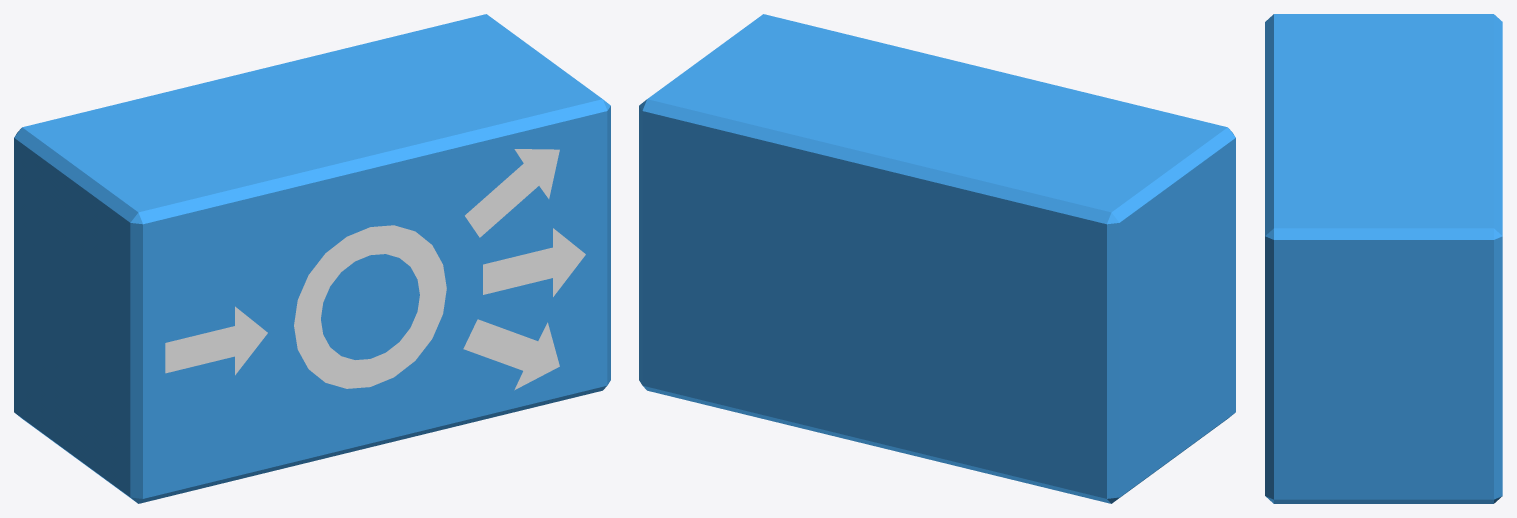
The model's file is Loadbalance.obj.
3 views of the same model, side by side, from view 1: azimuth 30°, elevation 25°; view 2: azimuth 150°, elevation 25°; view 3: azimuth 270°, elevation 25° (orthographic). The views are drawn at different scales.
Visible parts, largest first — view 1: Loadbalance; view 2: Loadbalance; view 3: Loadbalance.
Part boxes in pixels (bbox=[...]): Loadbalance: bbox=[14, 14, 610, 503]; Loadbalance: bbox=[639, 14, 1235, 503]; Loadbalance: bbox=[1265, 14, 1502, 503].
Size of the model in its own units: 0.9995 by 0.5795 by 0.4543.
